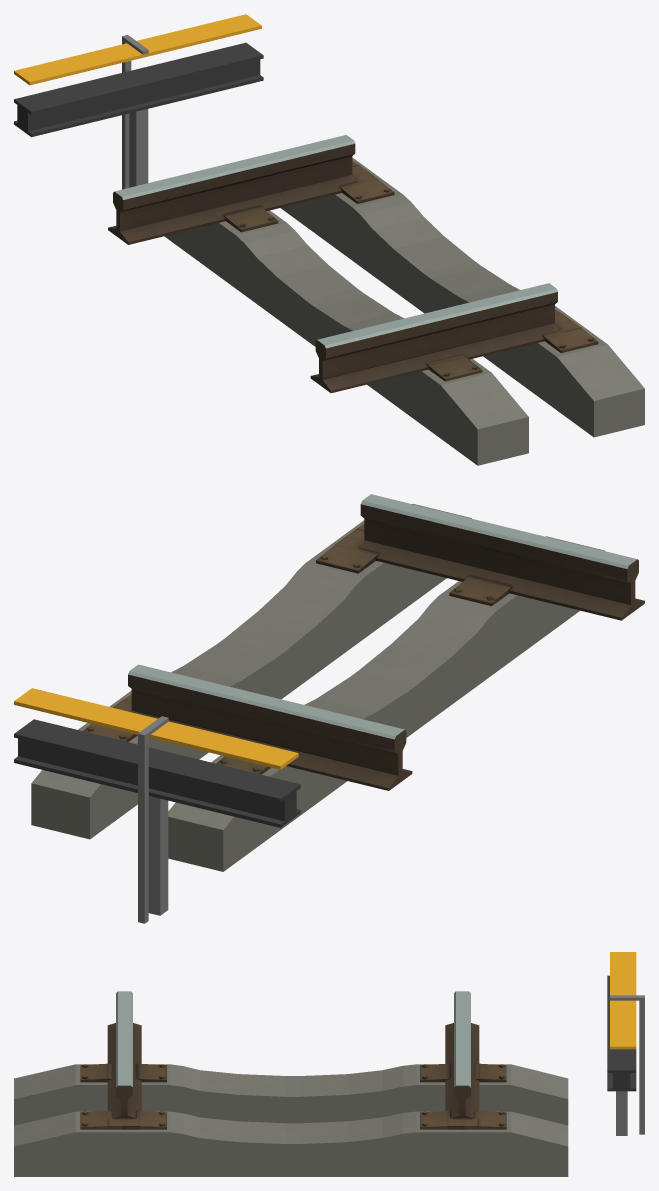
File: spsf_tracks_concrete_sleepers_3rdrail_left.obj
The picture shows the model from 3 angles, top to bottom: view 1: azimuth 30°, elevation 25°; view 2: azimuth 150°, elevation 25°; view 3: azimuth 270°, elevation 25°; orthographic projection. The views are drawn at different scales.
Visible parts, largest first — view 1: RAIL_BASE.006_Cube_Cube.004, RAIL_BASE.004, RAIL_RIGHT_Cube.010, RAIL_LEFT_Cube.002, RAIL_BASE.005_Cube.003; view 2: RAIL_BASE.006_Cube_Cube.004, RAIL_BASE.004, RAIL_LEFT_Cube.002, RAIL_RIGHT_Cube.010, RAIL_BASE.005_Cube.003; view 3: RAIL_BASE.006_Cube_Cube.004, RAIL_BASE.004, RAIL_BASE.005_Cube.003, RAIL_LEFT_Cube.002, RAIL_RIGHT_Cube.010.
Boxes of the visible parts, <box> form: RAIL_BASE.006_Cube_Cube.004: <box>164,157,644,465</box>; RAIL_BASE.004: <box>14,14,263,189</box>; RAIL_RIGHT_Cube.010: <box>108,135,357,244</box>; RAIL_LEFT_Cube.002: <box>310,283,559,393</box>; RAIL_BASE.005_Cube.003: <box>223,161,598,381</box>; RAIL_BASE.006_Cube_Cube.004: <box>31,504,604,871</box>; RAIL_BASE.004: <box>14,688,300,923</box>; RAIL_LEFT_Cube.002: <box>358,494,644,620</box>; RAIL_RIGHT_Cube.010: <box>128,664,412,790</box>; RAIL_BASE.005_Cube.003: <box>83,524,512,774</box>; RAIL_BASE.006_Cube_Cube.004: <box>14,1064,568,1176</box>; RAIL_BASE.004: <box>607,952,644,1135</box>; RAIL_BASE.005_Cube.003: <box>80,1063,506,1129</box>; RAIL_LEFT_Cube.002: <box>107,991,141,1118</box>; RAIL_RIGHT_Cube.010: <box>445,991,479,1118</box>.
Bounding box in the file's own units: 1.11 × 0.6752 × 2.82.
3 materials, 3 textured.
